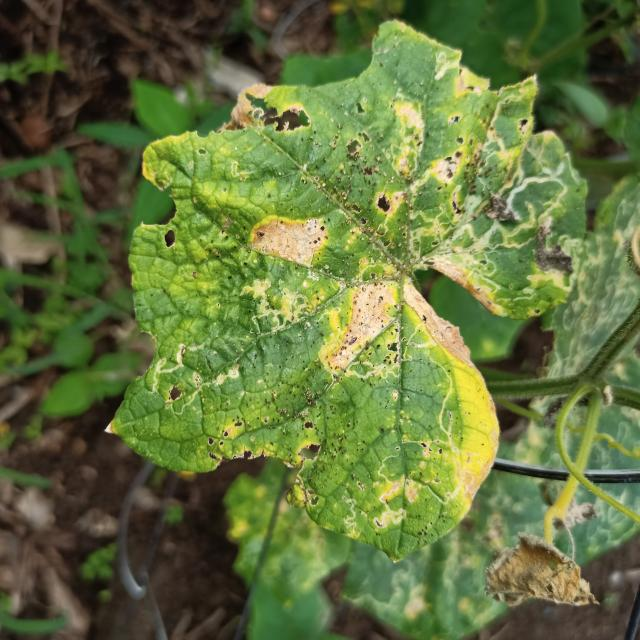disease_cucumber: (392, 285, 503, 536), (321, 285, 395, 369), (248, 213, 330, 269)
